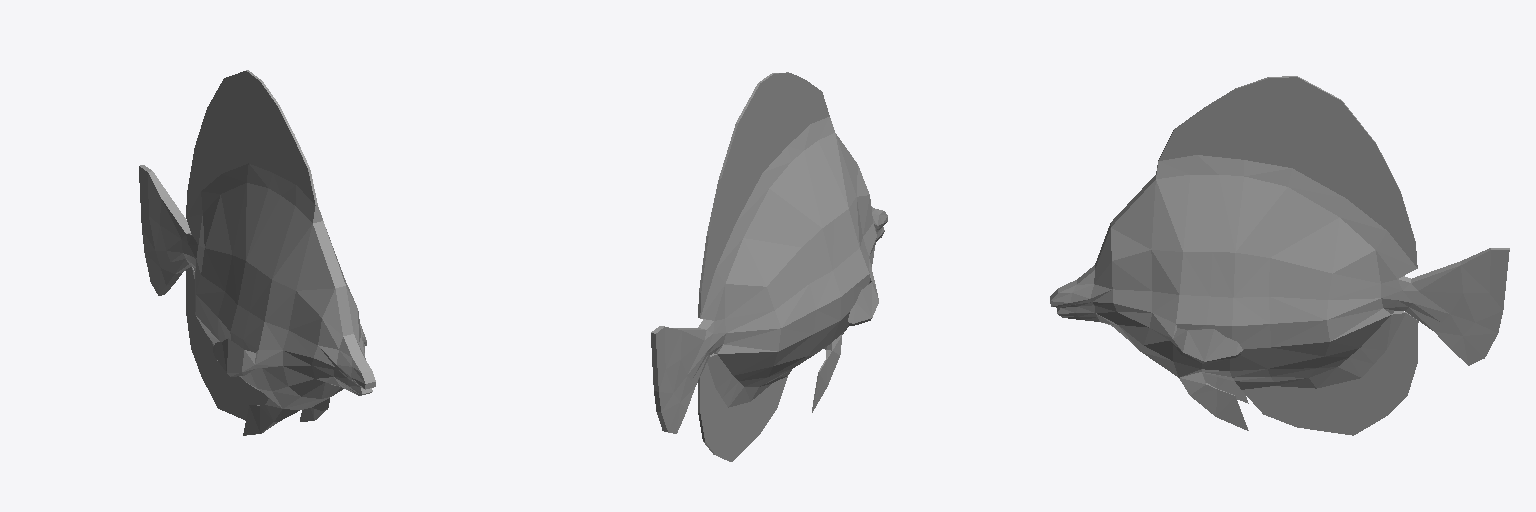
The model's file is TropicalFish05.obj.
3 views of the same model, side by side, from view 1: azimuth 30°, elevation 25°; view 2: azimuth 150°, elevation 25°; view 3: azimuth 270°, elevation 25° (orthographic).
Parts seen in each view (by area): view 1: TropicalFish05; view 2: TropicalFish05; view 3: TropicalFish05.
Boxes of the visible parts, x1=… form: TropicalFish05: x1=139, y1=70, x2=375, y2=435; TropicalFish05: x1=651, y1=72, x2=887, y2=461; TropicalFish05: x1=1050, y1=76, x2=1509, y2=435.
Size of the model in its own units: 152 by 389 by 452.